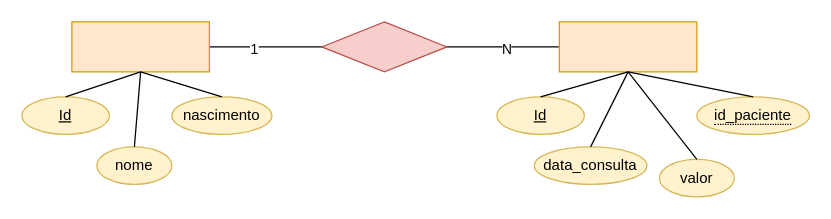
Some shapes in this 831 by 219 pixel diagram are drawn without their labels. Here are the shapes that lost their labels. From the top down, the centre of each, then its label:
the point at 140,46: Pacientes
the point at 384,46: Fazem
the point at 627,46: Consultas
